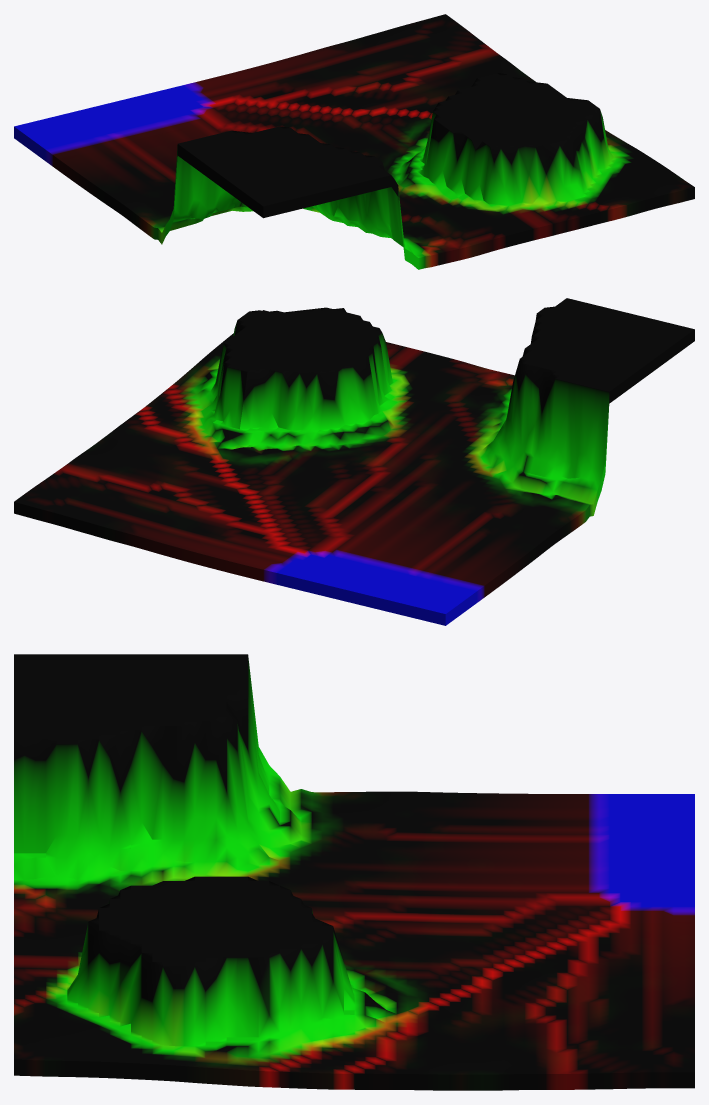
Rendered from Terrain_05_02.fbx.
The picture shows the model from 3 angles, top to bottom: view 1: azimuth 30°, elevation 25°; view 2: azimuth 150°, elevation 25°; view 3: azimuth 270°, elevation 25°; orthographic projection. The views are drawn at different scales.
Visible parts, largest first — view 1: Terrain_05_02_LOD0; view 2: Terrain_05_02_LOD0; view 3: Terrain_05_02_LOD0.
Part boxes in pixels (box(x1,y1,x2,y2)): Terrain_05_02_LOD0: box(14, 14, 694, 269); Terrain_05_02_LOD0: box(14, 298, 694, 625); Terrain_05_02_LOD0: box(14, 654, 694, 1090).
Size of what is drawn, in the model's own units: 384 by 97.07 by 384.
